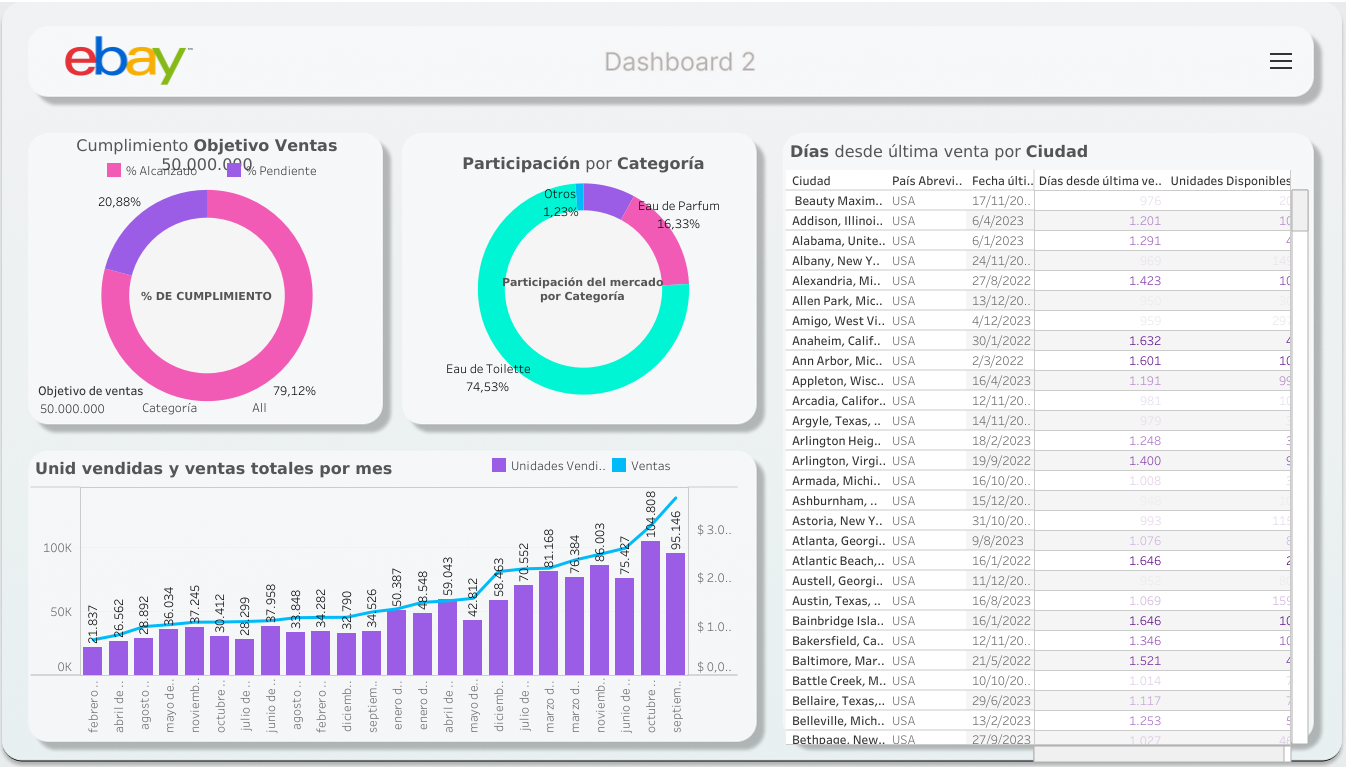

Layout of this report page (visuals, bound fields, positions):
{"tool":"tableau","page":{"name":"Dashboard 2","canvas":[1366,768],"ordinal":1},"visuals":[{"type":"image","param":"Image/logo ebay.png","box":[59,30,140,111]},{"type":"dashboard-object","box":[1164,34,98,26]},{"type":"dashboard-object","box":[1269,49,24,24]},{"type":"dashboard-object","box":[1164,60,98,26]},{"type":"worksheet","title":"Días desde última venta por ciudad","mark":"Automatic","rows":["Ciudad","Calculation_1055569271918758","Calculation_115967738004852737"],"box":[786,136,523,627]},{"type":"worksheet","title":"DONA ventas faltantes","mark":"Pie","rows":["Calculation_840202846364192779","Calculation_840202846364250126"],"box":[36,138,342,267]},{"type":"worksheet","title":"DONA Participación por categoría","mark":"Pie","rows":["Calculation_840202846354305026","Calculation_840202846354337796"],"box":[446,148,275,248]},{"type":"legend","title":"DONA ventas faltantes","param":"[federated.0iuf23o0ctprsw16fzcdq18ruu9r].[:Measure Names]","box":[104,159,248,32]},{"type":"parameter","param":"[Parameters].[Parámetro 4]","box":[38,380,106,44]},{"type":"parameter","param":"[Parameters].[Parámetro 3]","box":[140,398,115,44]},{"type":"worksheet","title":"Unid vendidas y ventas totales por mes","mark":"Line","rows":["Unidades Vendidas","Ventas"],"cols":["Fecha"],"box":[31,453,707,282]},{"type":"legend","title":"Unid vendidas y ventas totales por mes","param":"[federated.0iuf23o0ctprsw16fzcdq18ruu9r].[:Measure Names]","box":[489,455,240,58]}]}

Visuals, with their boxes in screenshot pixels (x1, y1, x2, y2), scaled from the page's 1366x768 canvas onto the 1365x767 screenshot:
image: left=59, top=30, right=199, bottom=141
dashboard-object: left=1163, top=34, right=1261, bottom=60
dashboard-object: left=1268, top=49, right=1292, bottom=73
dashboard-object: left=1163, top=60, right=1261, bottom=86
"Días desde última venta por ciudad" worksheet: left=785, top=136, right=1308, bottom=762
"DONA ventas faltantes" worksheet (Pie marks): left=36, top=138, right=378, bottom=404
"DONA Participación por categoría" worksheet (Pie marks): left=446, top=148, right=720, bottom=395
"DONA ventas faltantes" legend: left=104, top=159, right=352, bottom=191
parameter: left=38, top=380, right=144, bottom=423
parameter: left=140, top=397, right=255, bottom=441
"Unid vendidas y ventas totales por mes" worksheet (Line marks): left=31, top=452, right=737, bottom=734
"Unid vendidas y ventas totales por mes" legend: left=489, top=454, right=728, bottom=512
